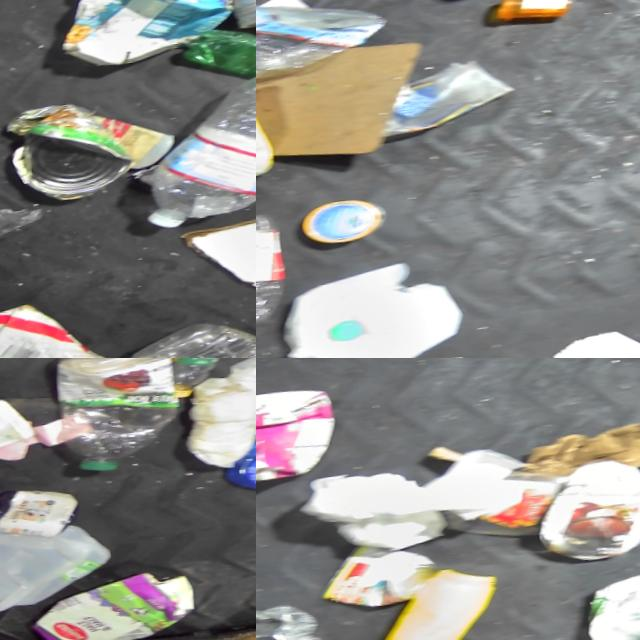can: (7, 112, 137, 207), (311, 537, 440, 617)
milk_jug: (270, 257, 463, 358), (0, 511, 114, 613)
non_white_jug: (48, 0, 240, 74), (527, 457, 640, 571), (345, 562, 507, 640), (377, 58, 515, 140), (256, 383, 342, 491)
plastic_bottle: (125, 58, 256, 232), (47, 358, 185, 477), (256, 0, 388, 88), (119, 312, 256, 358), (294, 195, 387, 251), (256, 211, 289, 355), (162, 358, 237, 401)
